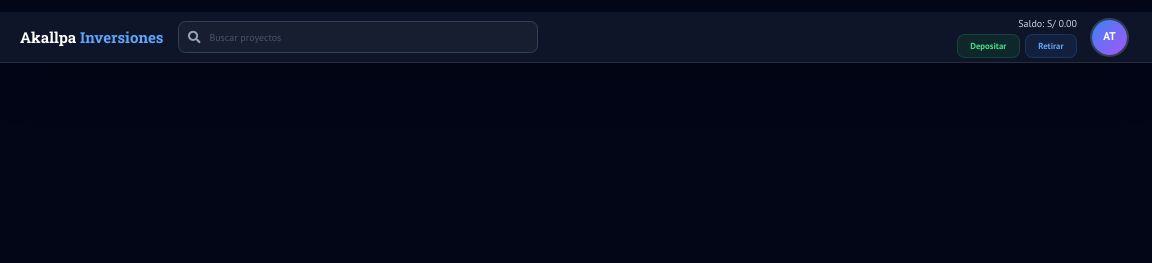
Test case: TopBar › el menú del usuario abre, muestra su correo y ofrece cerrar sesión
Click the button with aria-label "Menú de usuario" at (1110, 37), box [1087,14,1132,60]
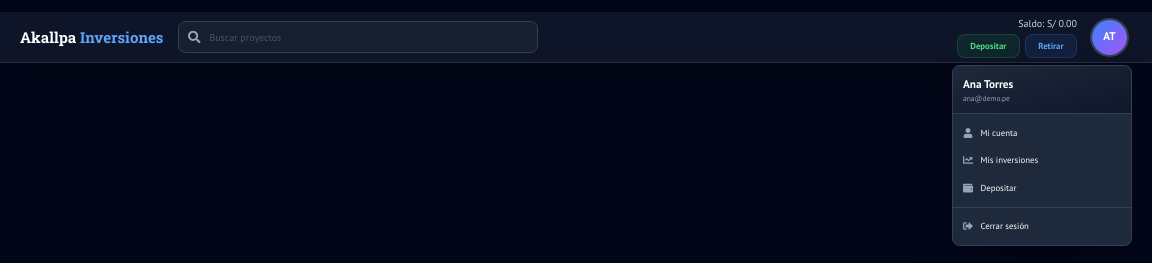
Result: the text "ana@demo.pe" is shown at [963,93,1010,103]
Result: the button "Cerrar sesión" is shown at [953,212,1131,240]
Press Escape
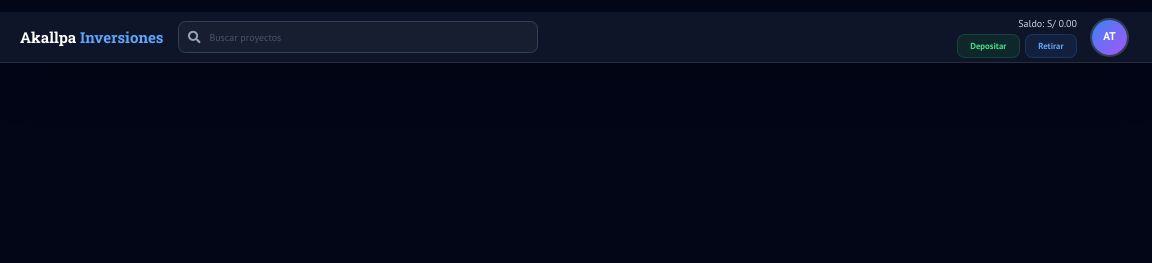
Result: the text "ana@demo.pe" is gone
